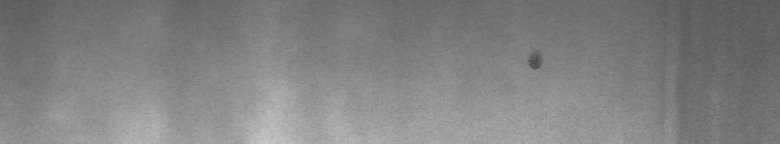fi: (524, 52, 544, 76)
